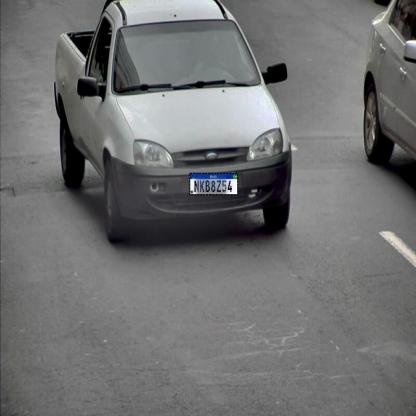PlacaM: (189, 172, 238, 196)
